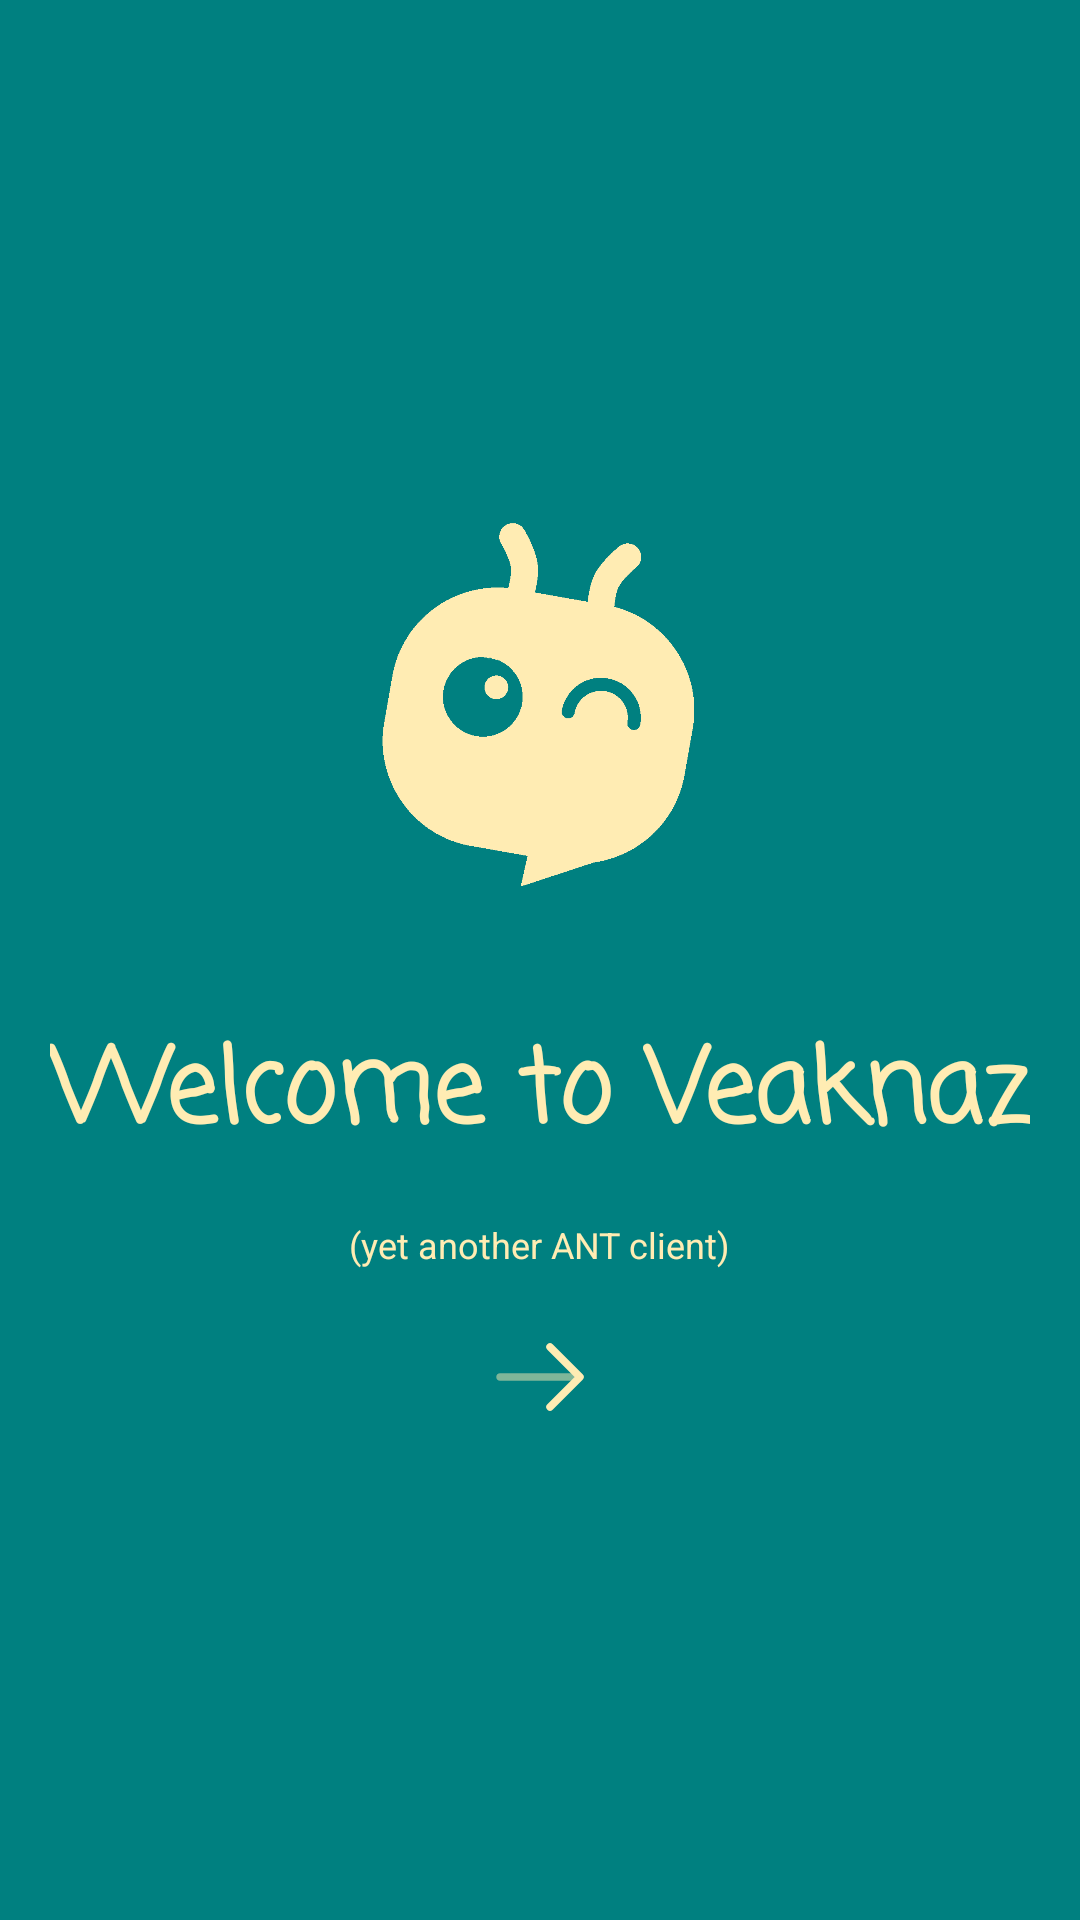

Icon click points for this 1080 × 1920 phone screenshot, format (x=x, y=y):
welcome go next: (x=540, y=1377)
